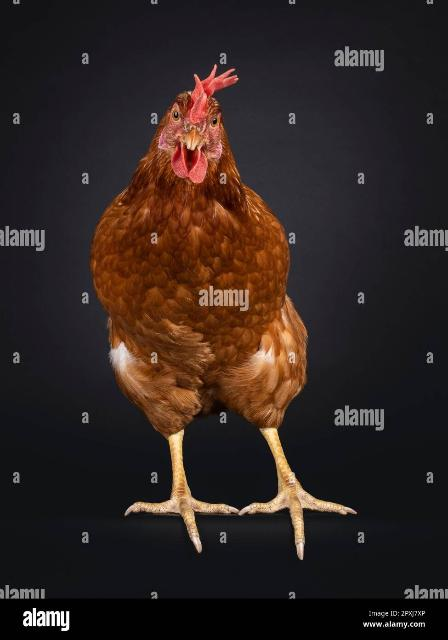Chicken: (89, 66, 357, 561)
